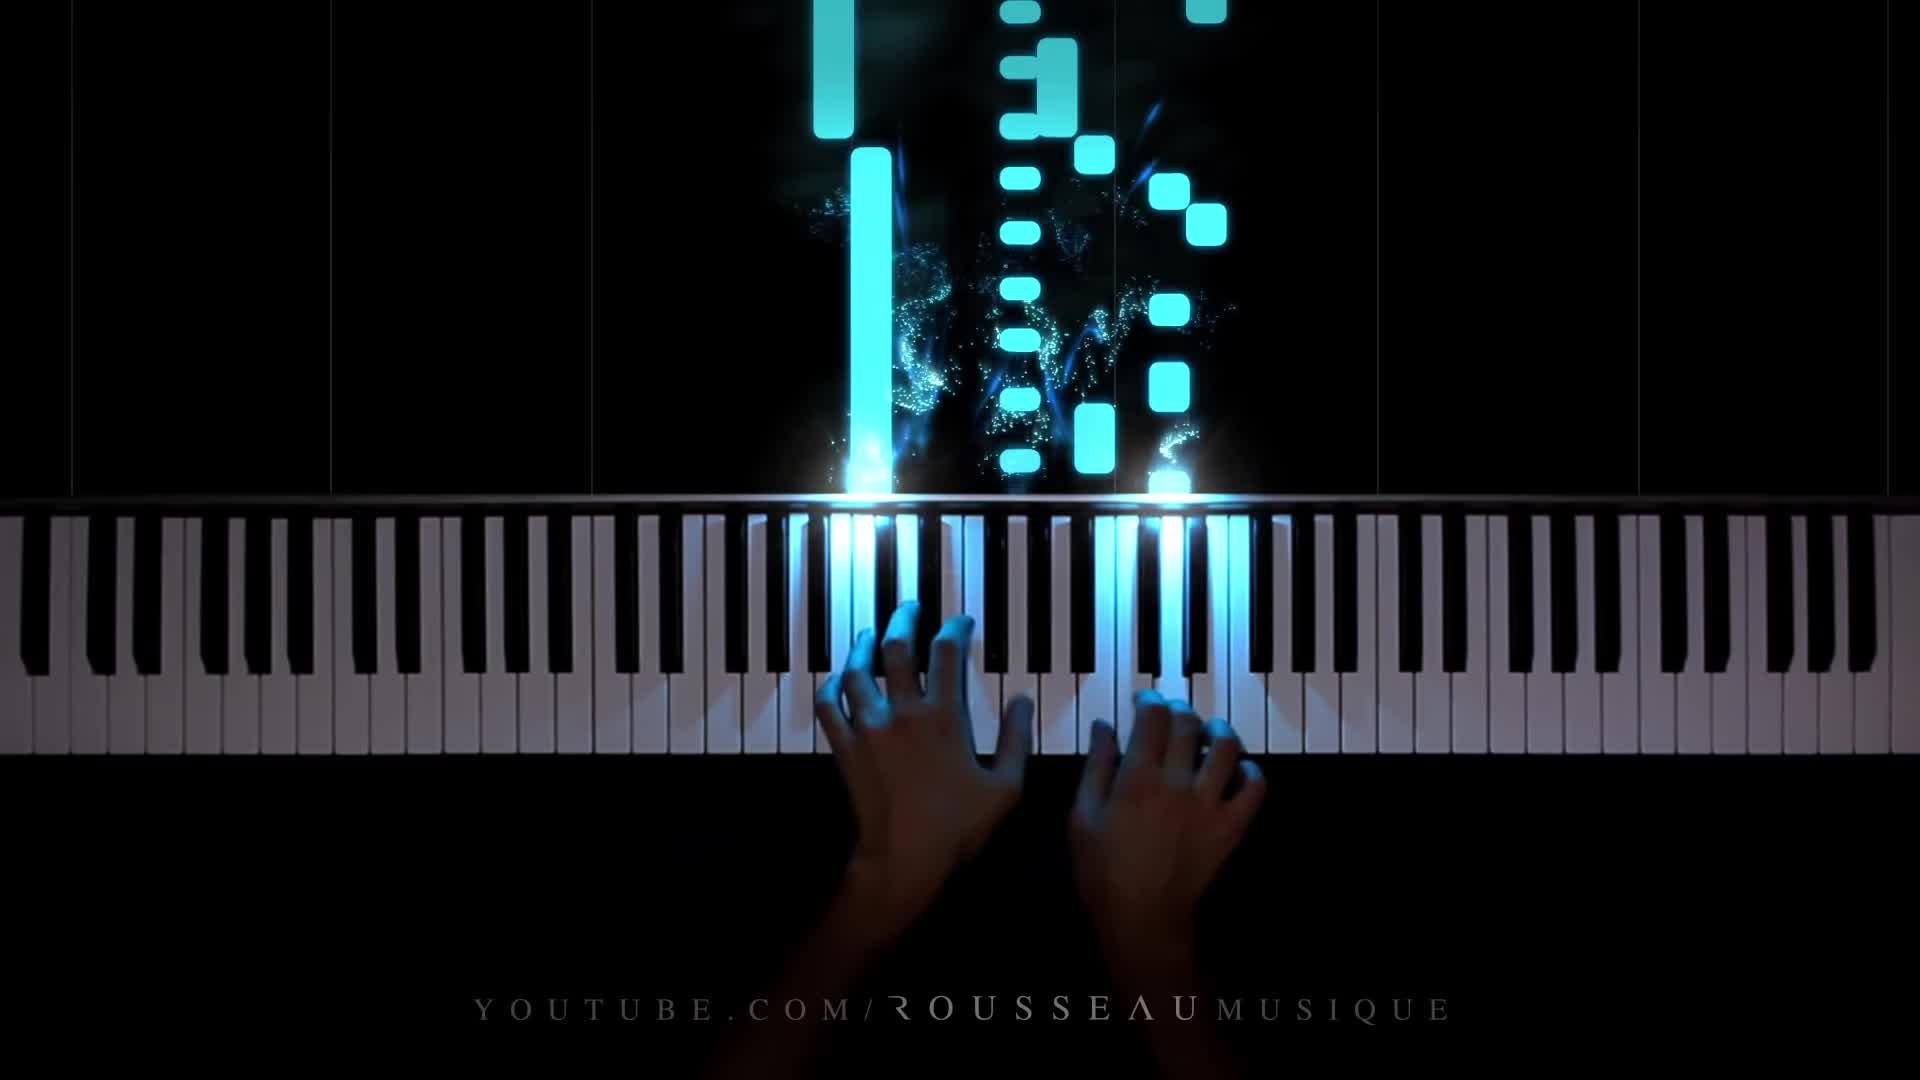left: (818, 599, 1033, 865)
right: (1067, 692, 1263, 918)
